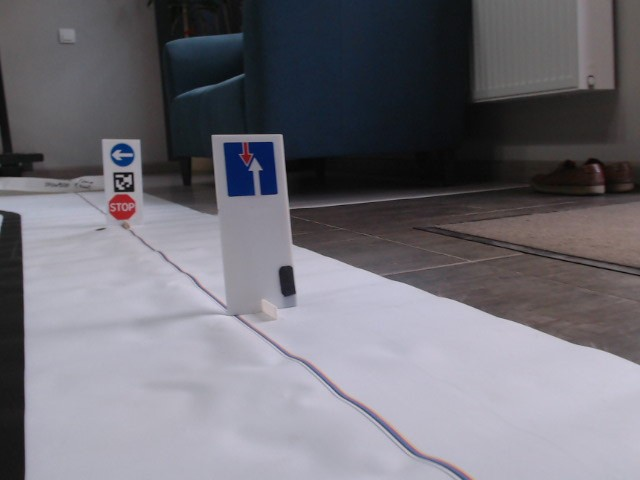Stop: (107, 193, 136, 221)
priority_movement: (222, 141, 278, 197)
